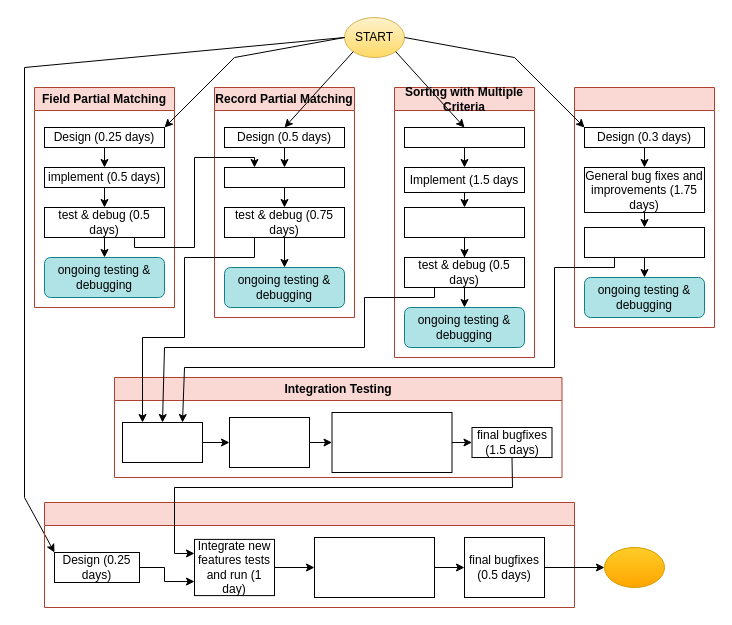
Some shapes in this 732 by 625 pixel diagram are drawn without their labels. Here are the shapes that lost their labels. From the top down, the box of each, then its label:
(404, 126, 524, 148): Design (0.75 days)
(224, 166, 344, 188): Integrate Field
(404, 206, 524, 238): Integrate Record and Array (1 day)
(574, 86, 714, 328): RecordArray General Improvements
(584, 226, 704, 258): test & debug (0.5 day)
(122, 422, 202, 462): integrate system (0.5 days)
(228, 416, 310, 468): create & run new tests (1 day)
(331, 412, 452, 472): use Clang sanitisers to analyse behaviour (memory bugs etc) (1 day)
(44, 502, 574, 608): Implementing main.cpp
(314, 536, 434, 598): use Clang sanitisers to analyse behaviour (memory bugs etc) (0.5 days)
(604, 546, 664, 588): END
